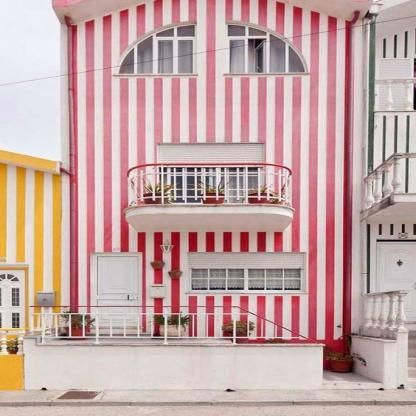Balcony: (123, 163, 295, 233)
Building Outline: (23, 0, 397, 391)
Door: (159, 144, 265, 224), (92, 253, 142, 327)
Facade: (62, 20, 362, 390)
Floor: (62, 116, 362, 232)
Floor Slab: (62, 111, 362, 116), (62, 232, 362, 237)
Ground Floor: (62, 237, 362, 390)
Top Floor: (62, 20, 362, 112)
Window: (188, 253, 305, 292), (226, 20, 310, 74), (117, 21, 197, 74)
